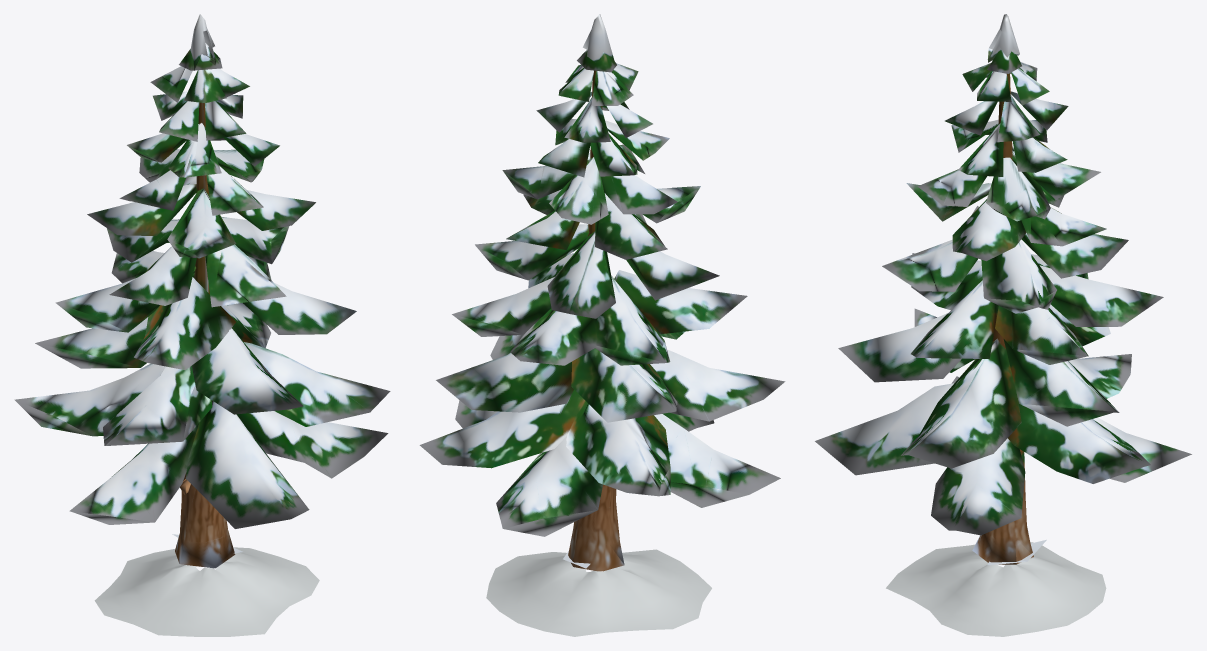
File: SKI_PROP_Pine_C-Co5VLwo_.glb
3 views of the same model, side by side, from view 1: azimuth 30°, elevation 25°; view 2: azimuth 150°, elevation 25°; view 3: azimuth 270°, elevation 25° (orthographic).
Visible parts, largest first — view 1: SKI_PROP_Pine_C; view 2: SKI_PROP_Pine_C; view 3: SKI_PROP_Pine_C.
Part boxes in pixels (x1,y1,x2,y2): SKI_PROP_Pine_C: (14, 14, 390, 636); SKI_PROP_Pine_C: (419, 14, 785, 636); SKI_PROP_Pine_C: (815, 14, 1191, 636).
Size of the model in its own units: 4.06 by 7 by 4.19.
1 material, 1 textured.
